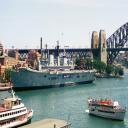Portanaves: (10, 39, 99, 94)
